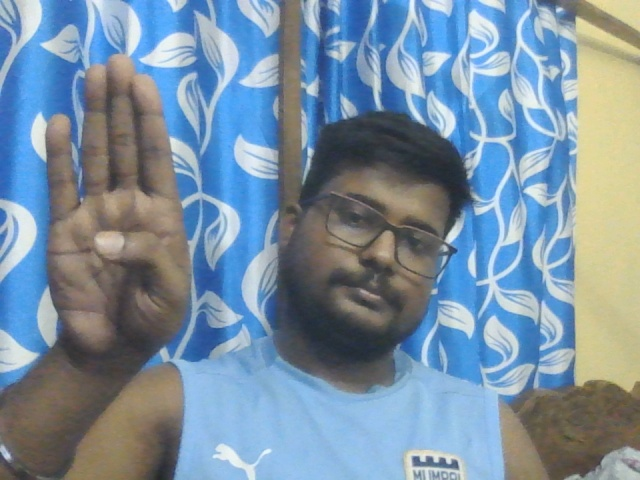B: (44, 53, 191, 353)
